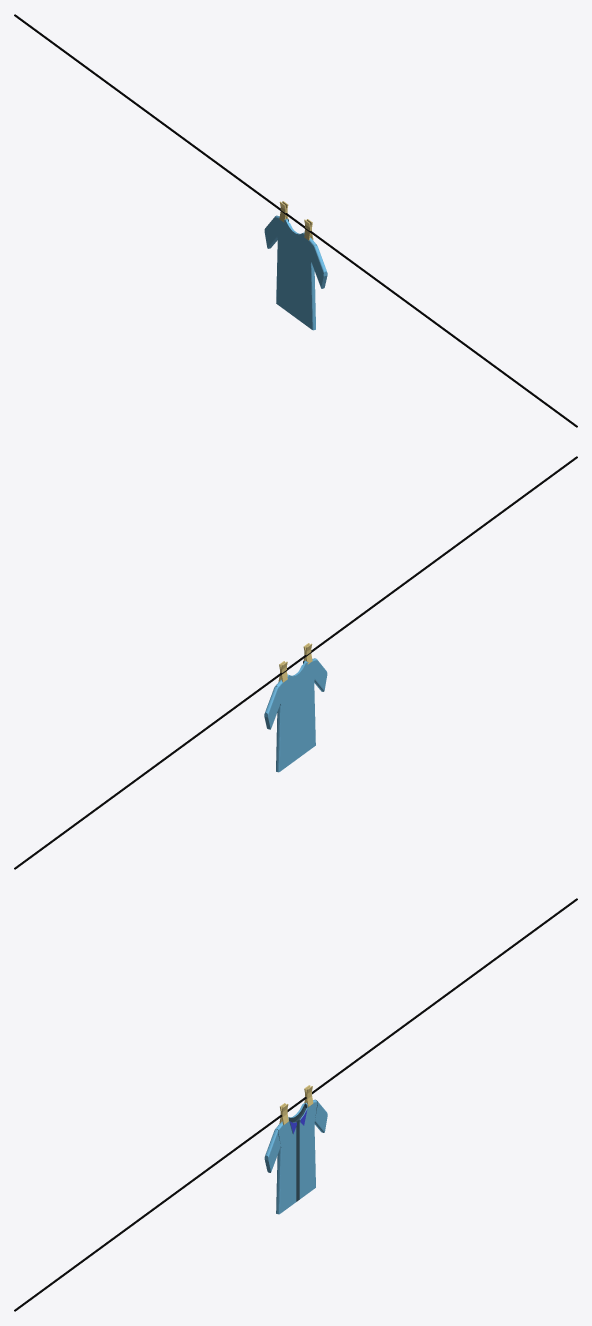
Rendered from jemuran.fbx.
3 views of the same model, one above another, from view 1: azimuth 30°, elevation 25°; view 2: azimuth 150°, elevation 25°; view 3: azimuth 330°, elevation 25° (orthographic).
Visible parts, largest first — view 1: Cube.001; view 2: Cube.001; view 3: Cube.001.
Part boxes in pixels (box(x1,y1,x2,y2)): Cube.001: box(14, 14, 577, 427); Cube.001: box(14, 456, 577, 869); Cube.001: box(14, 898, 577, 1311).
Bounding box in the file's own units: 5.12 × 107 × 1049.
